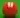red: (0, 0, 20, 18)
